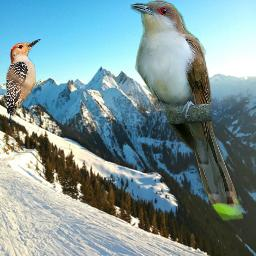Cuckoo: (130, 0, 243, 221)
Woodpecker: (6, 38, 41, 126)
